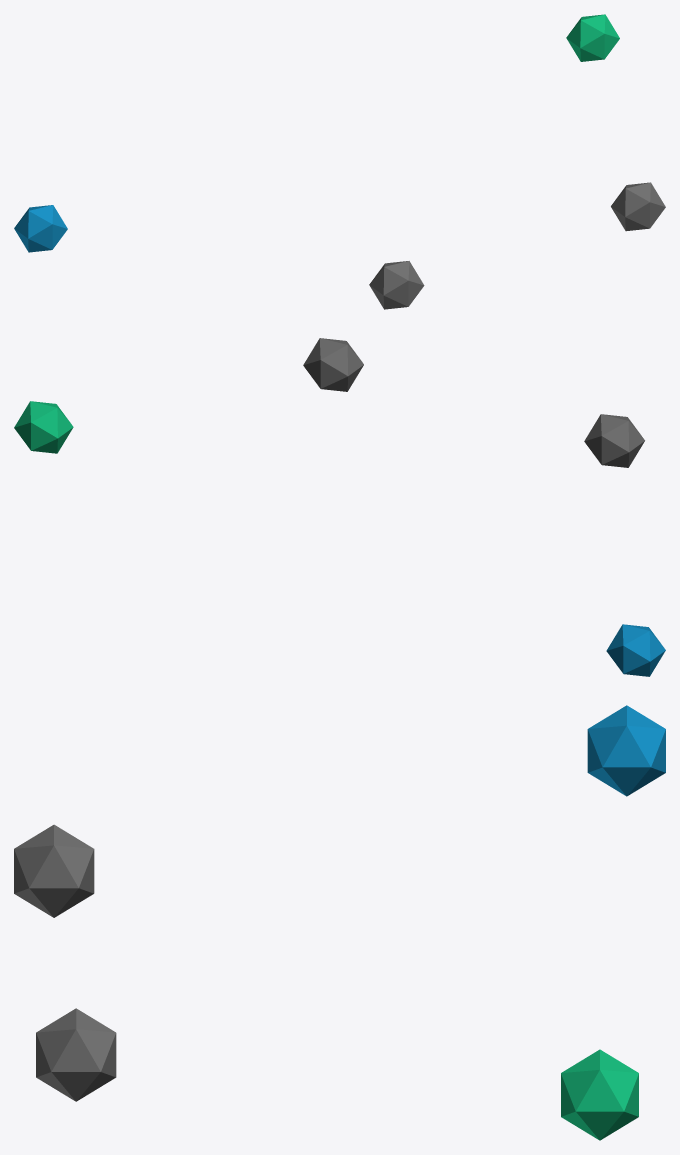
The picture shows the model from 3 angles, top to bottom: view 1: azimuth 30°, elevation 25°; view 2: azimuth 150°, elevation 25°; view 3: azimuth 270°, elevation 25°; orthographic projection. The views are drawn at different scales.
Parts seen in each view (by area): view 1: 01_00_00; view 2: 01_00_00; view 3: 01_00_00.
Boxes of the visible parts, <box> form: 01_00_00: <box>14,14,665,309</box>; 01_00_00: <box>14,338,665,676</box>; 01_00_00: <box>14,705,665,1140</box>.
Bounding box in the file's own units: 0.7961 × 0.137 × 0.4519.
